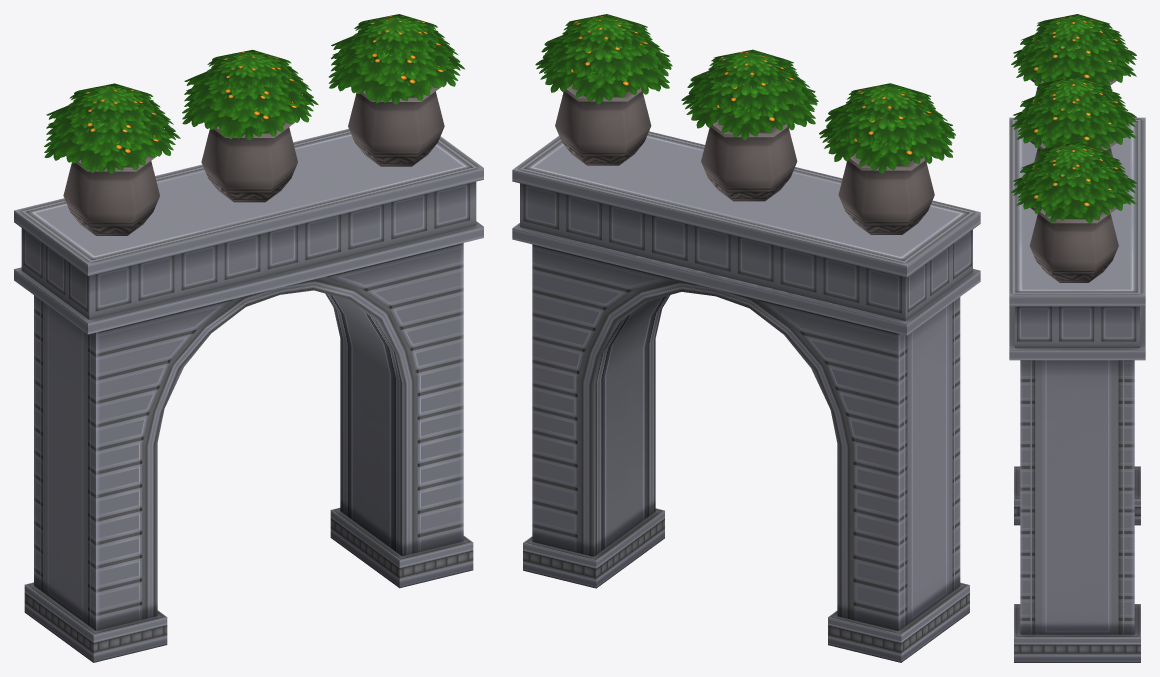
File: Arch_Gateway.FBX
The picture shows the model from 3 angles, left to right: view 1: azimuth 30°, elevation 25°; view 2: azimuth 150°, elevation 25°; view 3: azimuth 270°, elevation 25°; orthographic projection. The views are drawn at different scales.
Visible parts, largest first — view 1: Arch_Gateway, Line340, Line339, Line478; view 2: Arch_Gateway, Line340, Line478, Line339; view 3: Arch_Gateway, Line339, Line340, Line478.
Part boxes in pixels (x1=…): Arch_Gateway: x1=14, y1=129, x2=483, y2=662; Line340: x1=182, y1=49, x2=318, y2=202; Line339: x1=328, y1=14, x2=464, y2=166; Line478: x1=44, y1=83, x2=180, y2=235; Arch_Gateway: x1=512, y1=131, x2=980, y2=662; Line340: x1=681, y1=49, x2=818, y2=201; Line478: x1=819, y1=83, x2=955, y2=234; Line339: x1=535, y1=14, x2=672, y2=165; Arch_Gateway: x1=1009, y1=117, x2=1145, y2=662; Line339: x1=1011, y1=142, x2=1136, y2=282; Line340: x1=1011, y1=76, x2=1136, y2=162; Line478: x1=1011, y1=14, x2=1136, y2=95.
Size of the model in its own units: 95.8 by 116 by 28.95.
